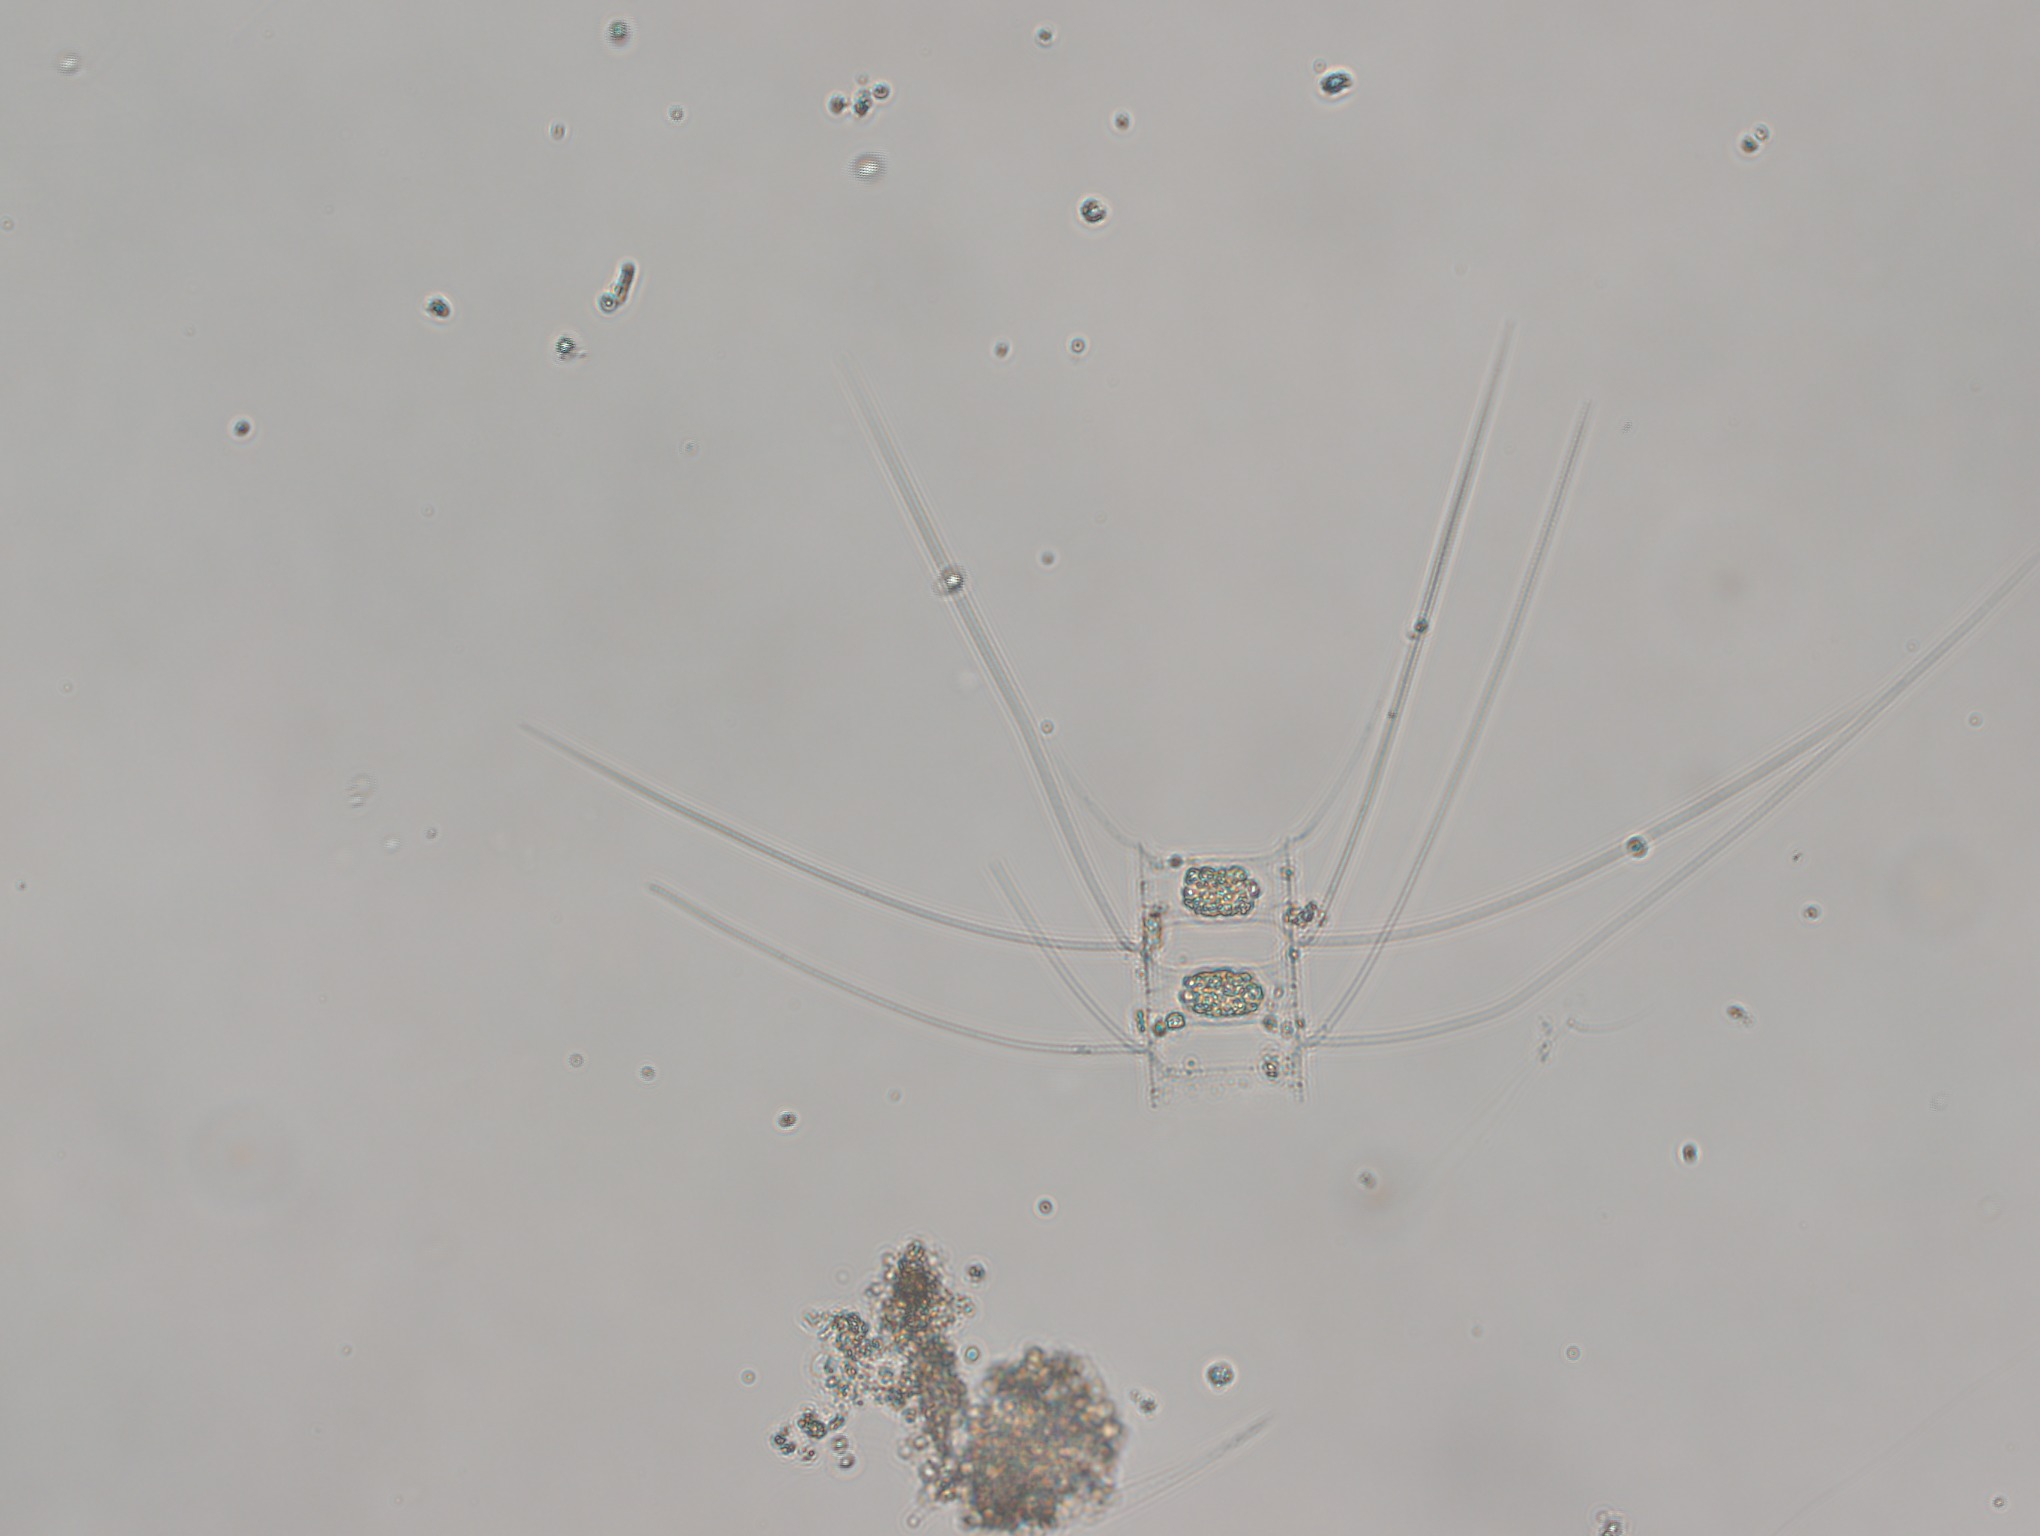chaetoceros: (539, 344, 1980, 1115)
